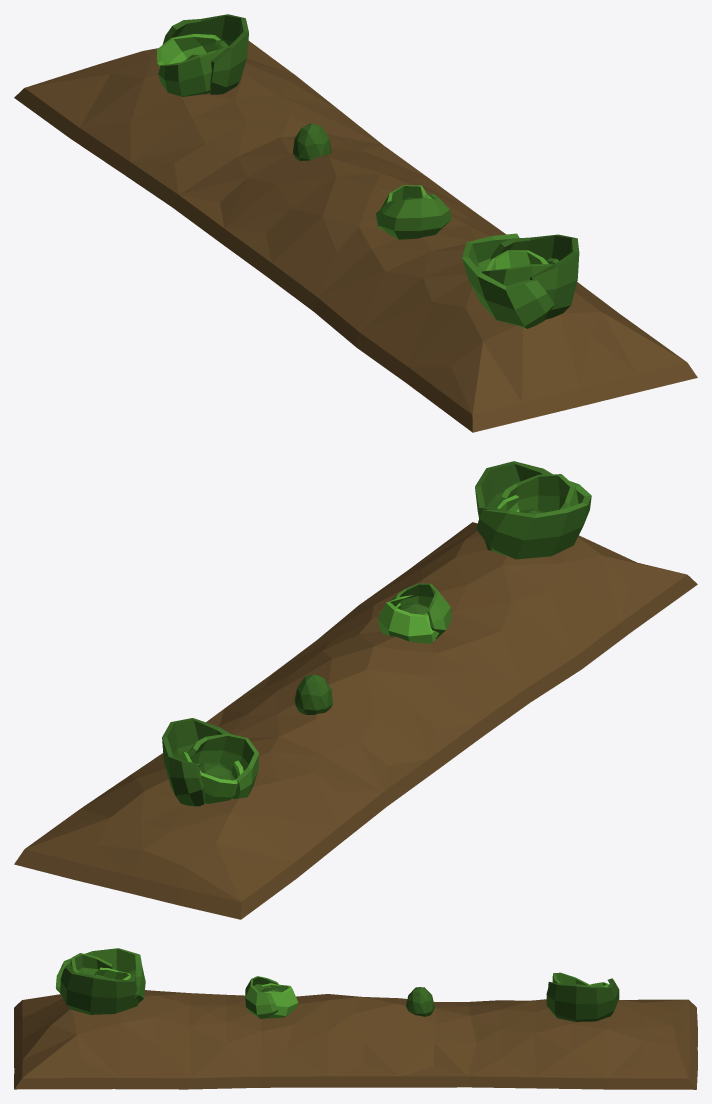
File: plantacaoRepolhos.fbx
3 renders of one model, top to bottom at view 1: azimuth 30°, elevation 25°; view 2: azimuth 150°, elevation 25°; view 3: azimuth 270°, elevation 25°, orthographic. The views are drawn at different scales.
Visible parts, largest first — view 1: Plane.124, Icosphere, Icosphere.003, Icosphere.004, Icosphere.001; view 2: Plane.124, Icosphere, Icosphere.003, Icosphere.004, Icosphere.001; view 3: Plane.124, Icosphere, Icosphere.003, Icosphere.004, Icosphere.001.
Part boxes in pixels (x1,y1,x2,y2): Plane.124: (14,40,697,432); Icosphere: (462,233,579,328); Icosphere.003: (156,14,248,96); Icosphere.004: (376,185,451,239); Icosphere.001: (293,123,331,160); Plane.124: (14,522,697,919); Icosphere: (475,461,591,559); Icosphere.003: (162,718,259,806); Icosphere.004: (378,583,451,643); Icosphere.001: (294,674,332,714); Plane.124: (14,990,697,1089); Icosphere: (56,948,145,1014); Icosphere.003: (546,972,619,1021); Icosphere.004: (245,976,298,1018); Icosphere.001: (406,987,434,1016).
Bounding box in the file's own units: 203 × 100 × 709.
